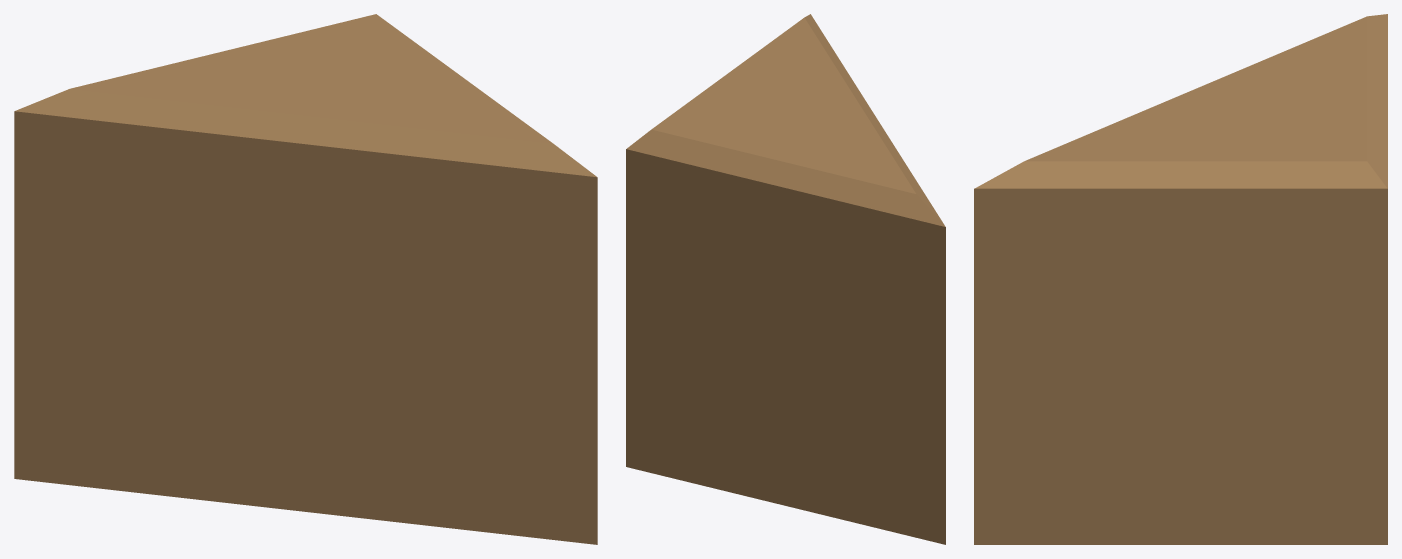
The model's file is wallCorner.fbx.
3 renders of one model, left to right at view 1: azimuth 30°, elevation 25°; view 2: azimuth 150°, elevation 25°; view 3: azimuth 270°, elevation 25°, orthographic. The views are drawn at different scales.
Parts seen in each view (by area): view 1: wallCorner; view 2: wallCorner; view 3: wallCorner.
Boxes of the visible parts, x1,y1,x2,y2 form: wallCorner: [14, 14, 597, 544]; wallCorner: [626, 14, 945, 544]; wallCorner: [974, 14, 1387, 544].
Size of the model in its own units: 100 by 100 by 100.
